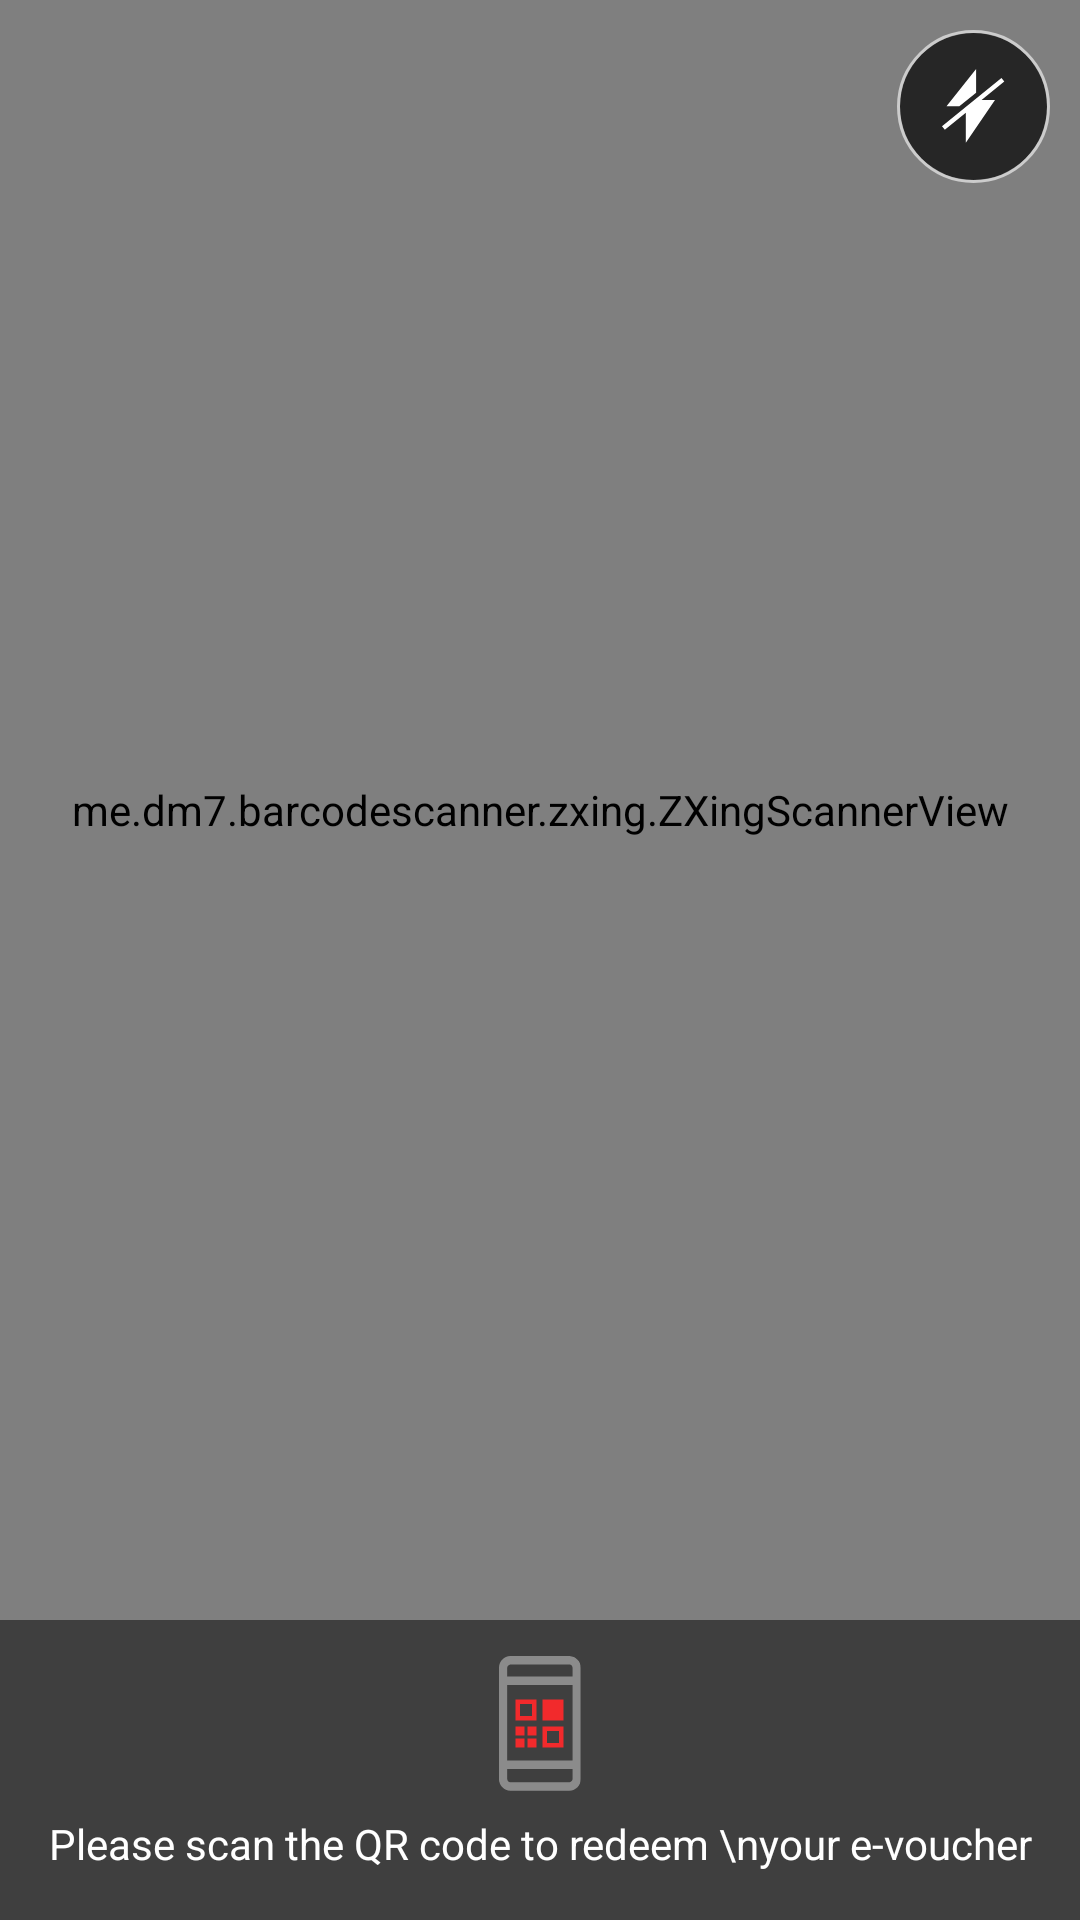

Named icons in this screenshot (1080×1920) and their centers, [x,y]:
flash off: [973,106]
qrmobile: [540,1723]
